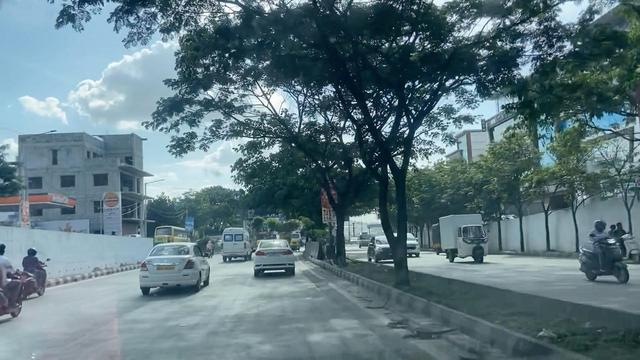HMV: (223, 226, 248, 261)
LMV: (142, 247, 203, 292), (254, 240, 297, 279), (22, 243, 49, 304)
RoadDamages: (371, 305, 452, 356)
